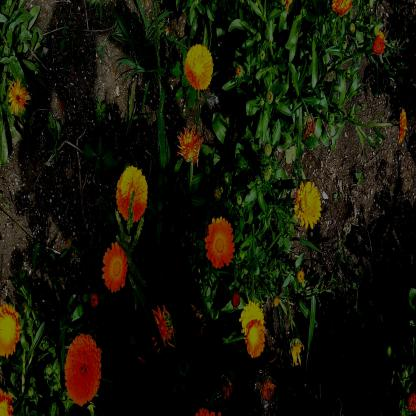marigold: (64, 332, 101, 407), (115, 164, 148, 223), (204, 215, 234, 269), (184, 44, 214, 90), (102, 240, 127, 292), (0, 303, 22, 359), (295, 180, 320, 229), (240, 298, 265, 338), (243, 317, 266, 358), (7, 78, 30, 112), (396, 106, 408, 142)
